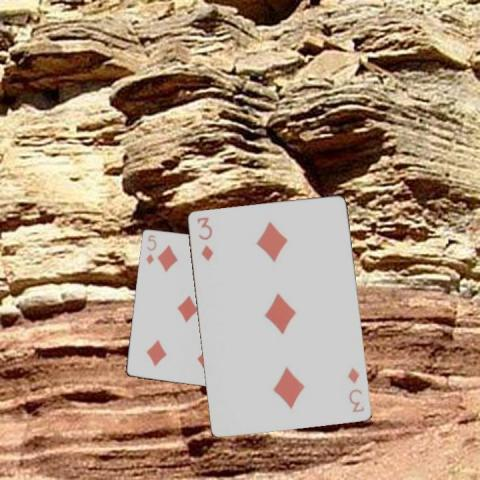3d: (345, 365, 366, 414), (194, 214, 215, 263)
5d: (144, 232, 158, 265)
